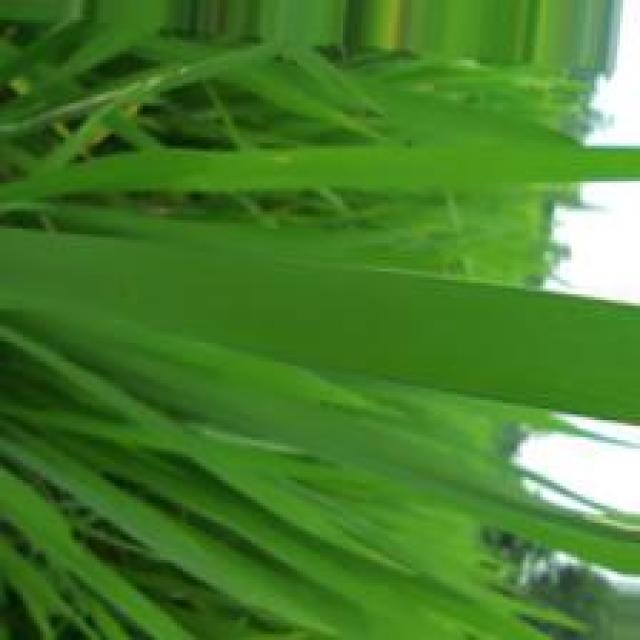HealthyLeaf: (7, 231, 638, 420), (135, 343, 371, 468), (410, 151, 562, 189)
